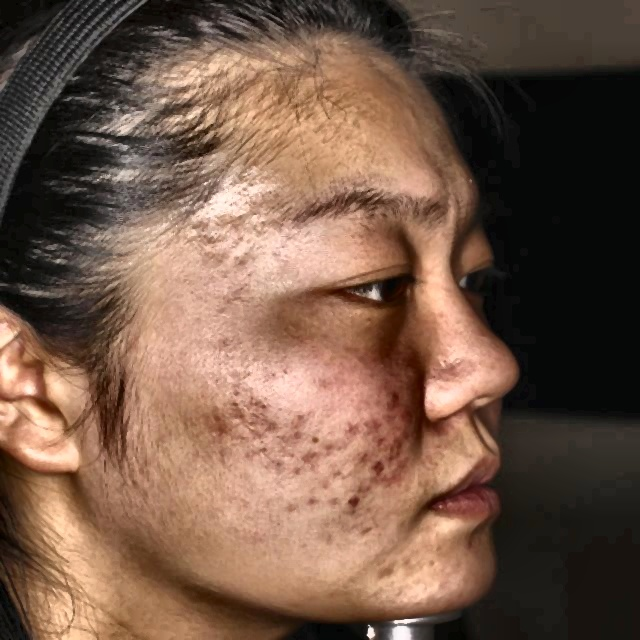pustule: (264, 414, 304, 454), (355, 446, 386, 484), (331, 416, 363, 452), (336, 484, 369, 514), (390, 434, 416, 471), (374, 394, 404, 418), (363, 422, 388, 444)
